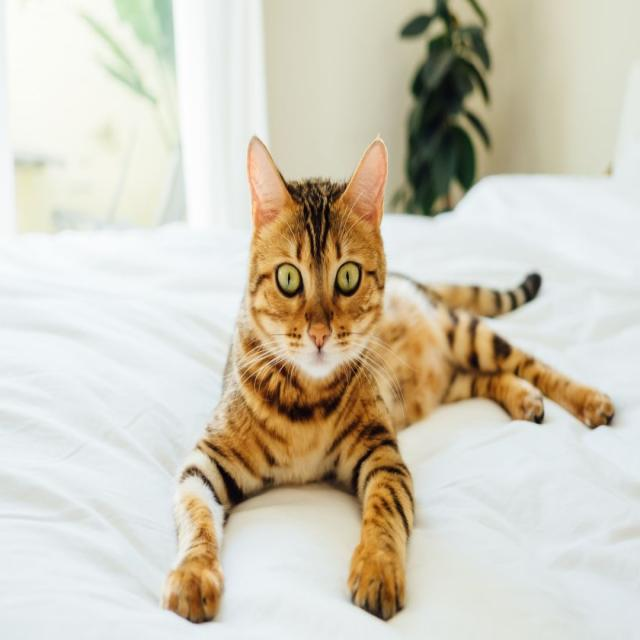Toyger: (162, 129, 617, 632)
